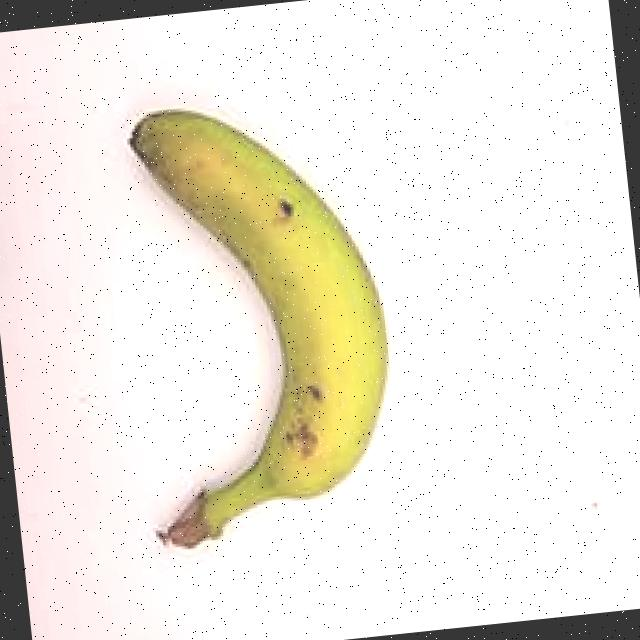Unripe: (88, 62, 423, 574)
